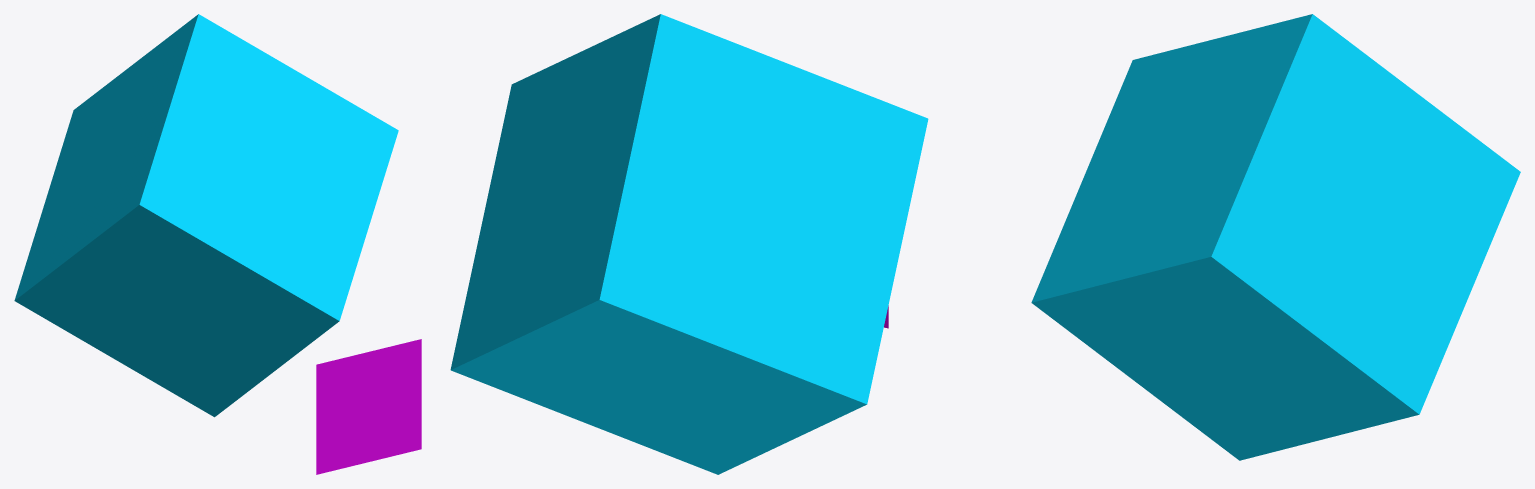
The model's file is legibility-test1.dae.
The picture shows the model from 3 angles, left to right: view 1: azimuth 30°, elevation 25°; view 2: azimuth 150°, elevation 25°; view 3: azimuth 270°, elevation 25°; orthographic projection. The views are drawn at different scales.
Parts seen in each view (by area): view 1: Cube, Plane; view 2: Cube; view 3: Cube.
Part boxes in pixels (x1,y1,x2,y2): Cube: [14, 14, 398, 417]; Plane: [316, 339, 421, 474]; Cube: [450, 14, 928, 474]; Cube: [1031, 14, 1520, 460].
Size of the model in its own units: 314 by 343 by 384.
